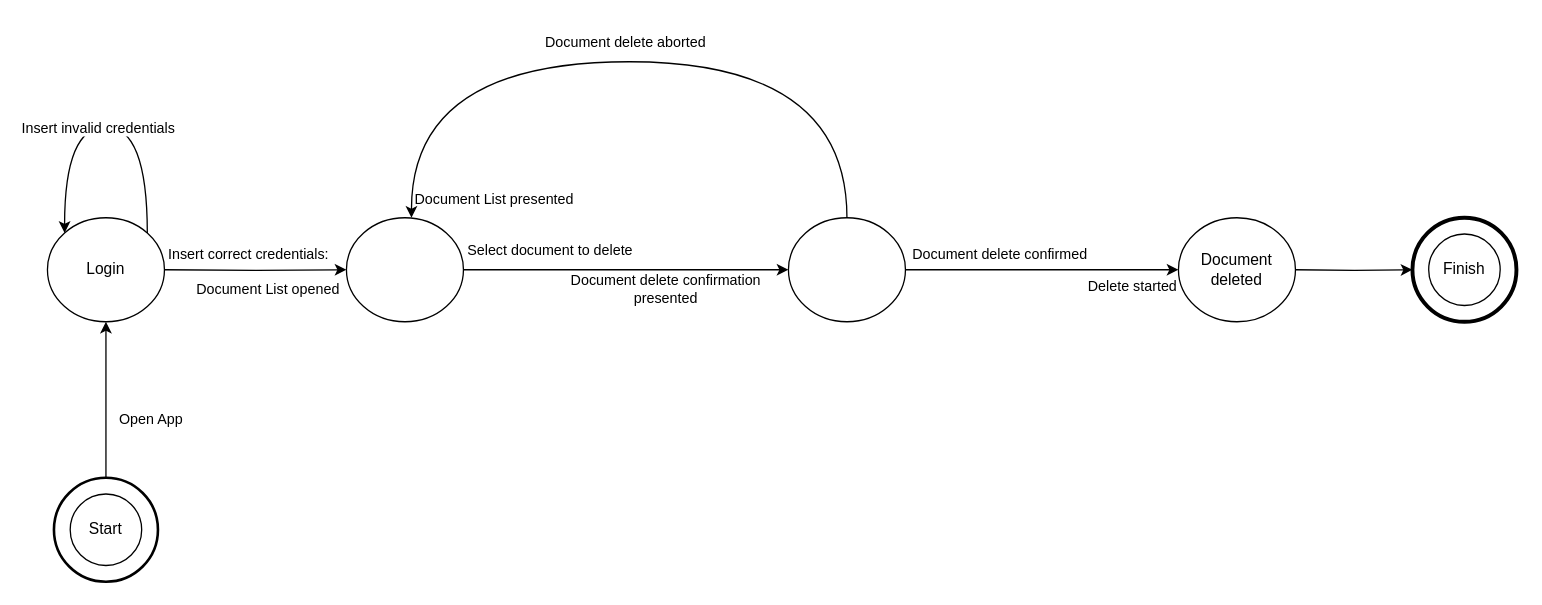
Some shapes in this 1542 by 605 pixel diagram are drawn without their labels. Each missing label, with the centre of its shape:
Document delete confirmation: the point at 846,269
Document List: the point at 404,269
